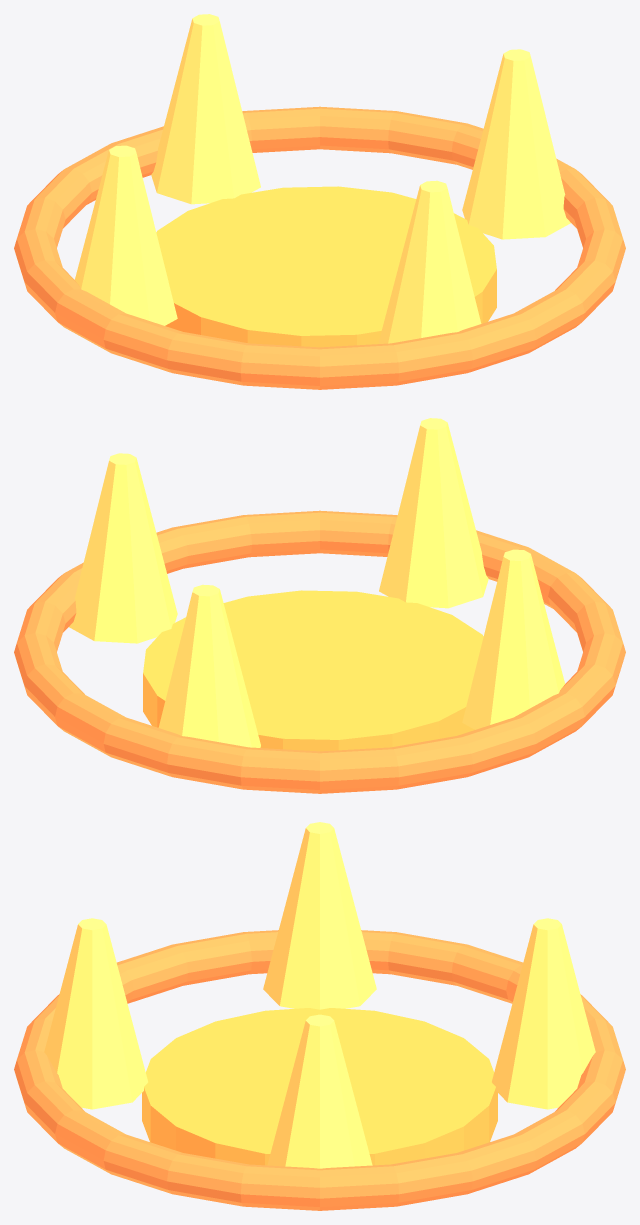
Rendered from hazard_fire.glb.
3 renders of one model, top to bottom at view 1: azimuth 30°, elevation 25°; view 2: azimuth 150°, elevation 25°; view 3: azimuth 270°, elevation 25°, orthographic.
Parts seen in each view (by area): view 1: fire_ground; view 2: fire_ground; view 3: fire_ground.
Boxes of the visible parts, bbox=[...] form: fire_ground: bbox=[14, 14, 625, 389]; fire_ground: bbox=[14, 418, 625, 793]; fire_ground: bbox=[14, 822, 625, 1210].
Bounding box in the file's own units: 0.86 × 0.305 × 0.86.
